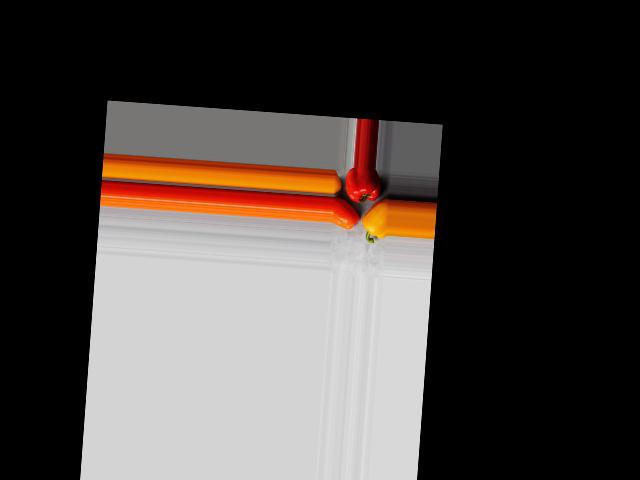bell_pepper: (344, 168, 385, 203)
